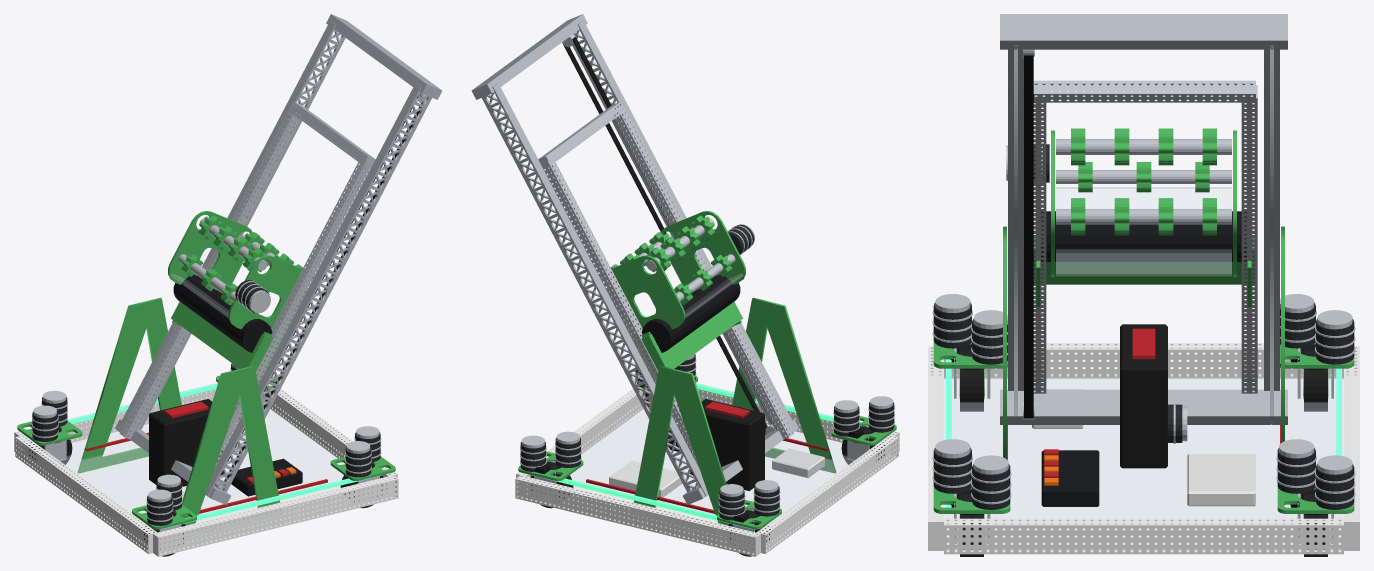
3 views of the same model, side by side, from view 1: azimuth 30°, elevation 25°; view 2: azimuth 150°, elevation 25°; view 3: azimuth 270°, elevation 25° (orthographic). The views are drawn at different scales.
Visible parts, largest first — view 1: tilt.silver, body.green_anodized, body.black_tube, stage.aluminum_tube, body.polycarb, grab.green_anodized, body.battery, grab.black, body.kraken, body.kraken_cap, grab.green_wheel, car.green_anodized (+7 smaller); view 2: tilt.silver, body.green_anodized, body.black_tube, stage.aluminum_tube, body.polycarb, grab.green_anodized, body.kraken, body.battery, body.kraken_cap, grab.black, grab.green_wheel, car.green_anodized (+9 smaller); view 3: tilt.silver, body.polycarb, body.black_tube, stage.aluminum_tube, body.kraken, grab.polycarb, body.kraken_cap, grab.black, body.battery, grab.green_wheel, grab.aluminum, body.green_anodized (+10 smaller).
Boxes of the visible parts, left/top/right/bottom form: tilt.silver: left=115, top=14, right=442, bottom=504; body.green_anodized: left=17, top=297, right=395, bottom=548; body.black_tube: left=14, top=382, right=398, bottom=556; stage.aluminum_tube: left=119, top=101, right=375, bottom=466; body.polycarb: left=24, top=408, right=386, bottom=553; grab.green_anodized: left=168, top=211, right=313, bottom=338; body.battery: left=149, top=399, right=223, bottom=486; grab.black: left=173, top=274, right=272, bottom=352; body.kraken: left=32, top=363, right=380, bottom=525; body.kraken_cap: left=32, top=363, right=381, bottom=521; grab.green_wheel: left=181, top=215, right=303, bottom=305; car.green_anodized: left=171, top=301, right=281, bottom=380; tilt.silver: left=471, top=14, right=798, bottom=504; body.green_anodized: left=518, top=297, right=896, bottom=548; body.black_tube: left=515, top=382, right=899, bottom=556; stage.aluminum_tube: left=538, top=101, right=794, bottom=466; body.polycarb: left=522, top=408, right=889, bottom=553; grab.green_anodized: left=600, top=211, right=745, bottom=338; body.kraken: left=520, top=354, right=894, bottom=520; body.battery: left=690, top=399, right=764, bottom=490; body.kraken_cap: left=520, top=354, right=894, bottom=516; grab.black: left=642, top=274, right=740, bottom=352; grab.green_wheel: left=610, top=215, right=732, bottom=305; car.green_anodized: left=632, top=301, right=742, bottom=380; tilt.silver: left=1000, top=14, right=1287, bottom=424; body.polycarb: left=939, top=374, right=1348, bottom=550; body.black_tube: left=928, top=343, right=1359, bottom=554; stage.aluminum_tube: left=1033, top=80, right=1257, bottom=393; body.kraken: left=933, top=303, right=1354, bottom=509; grab.polycarb: left=1056, top=187, right=1231, bottom=275; body.kraken_cap: left=932, top=294, right=1355, bottom=504; grab.black: left=1041, top=211, right=1246, bottom=261; body.battery: left=1120, top=324, right=1167, bottom=468; grab.green_wheel: left=1071, top=128, right=1216, bottom=235; grab.aluminum: left=1056, top=139, right=1231, bottom=224; body.green_anodized: left=933, top=226, right=1354, bottom=518.
Bounding box in the file's own units: 0.8599 × 1.04 × 0.6858.
Materials: 18 (2 with a texture image).
